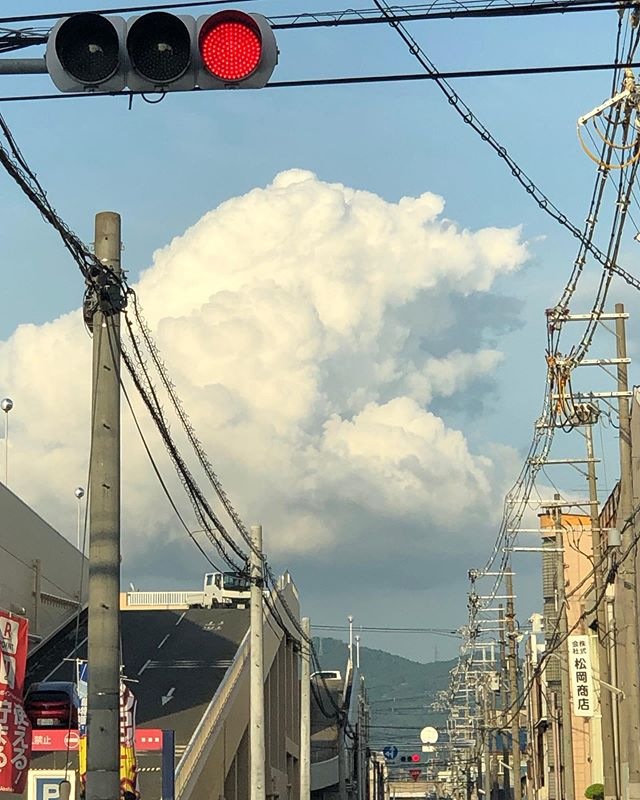building: (476, 491, 640, 800)
sky: (57, 1, 612, 526)
street: (1, 599, 245, 800)
